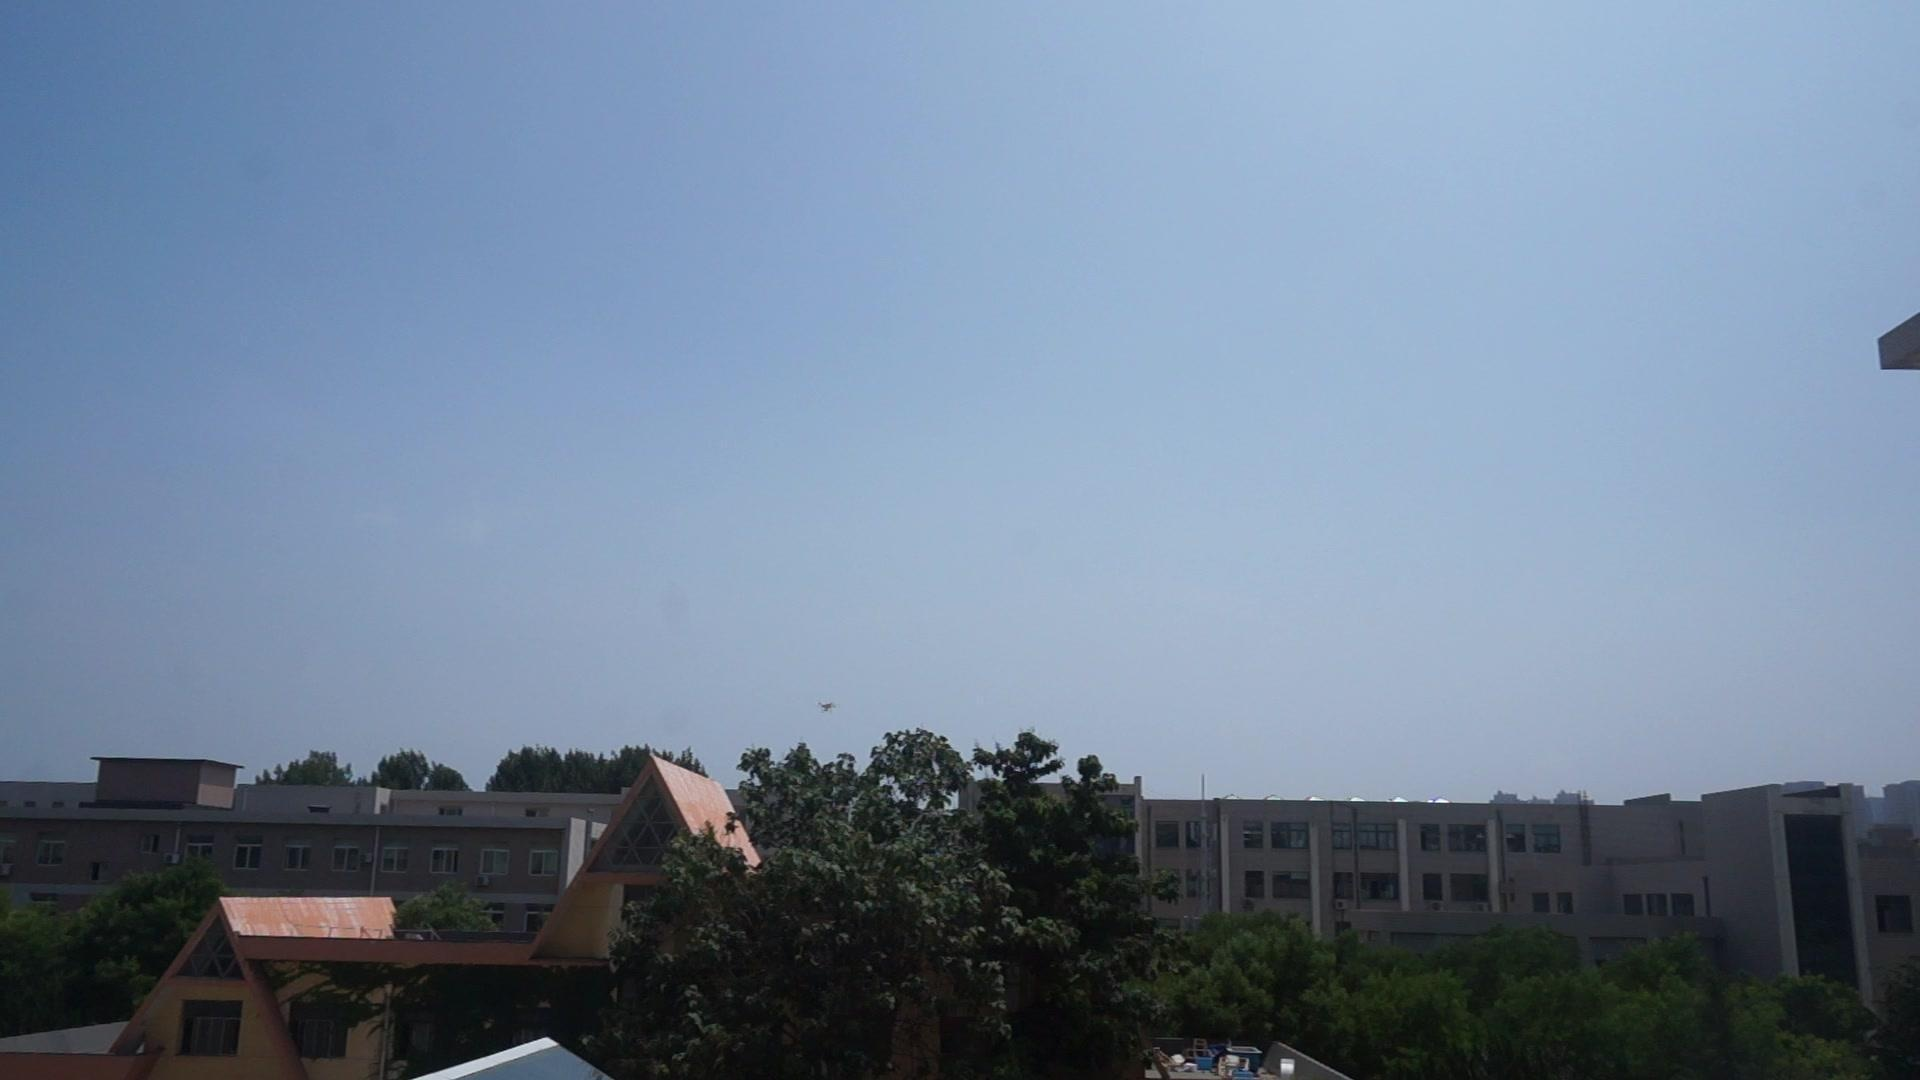UAV: (816, 702, 841, 713)
